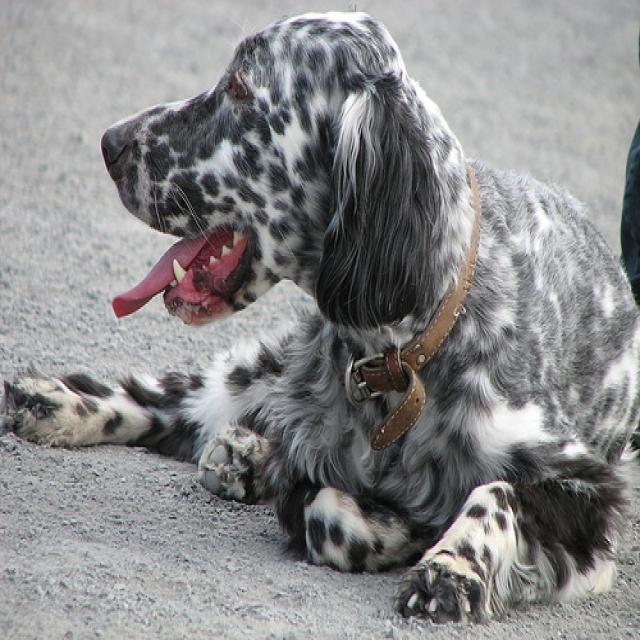dog-english_setter: (1, 2, 637, 633)
